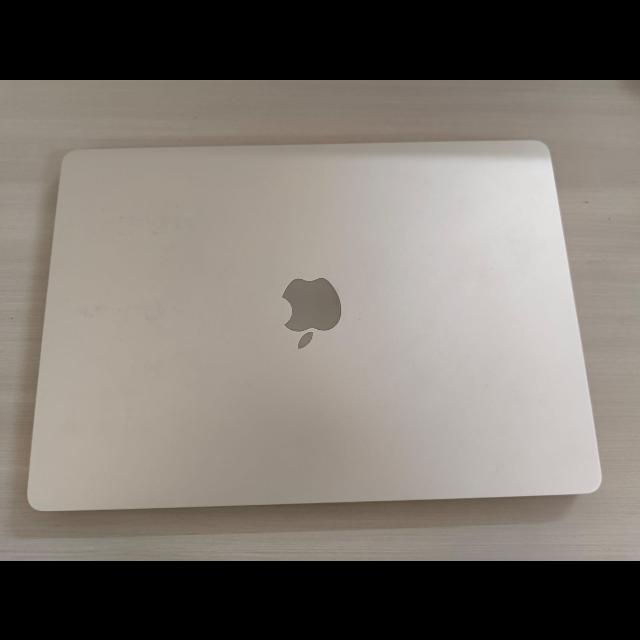laptop: (17, 132, 620, 514)
